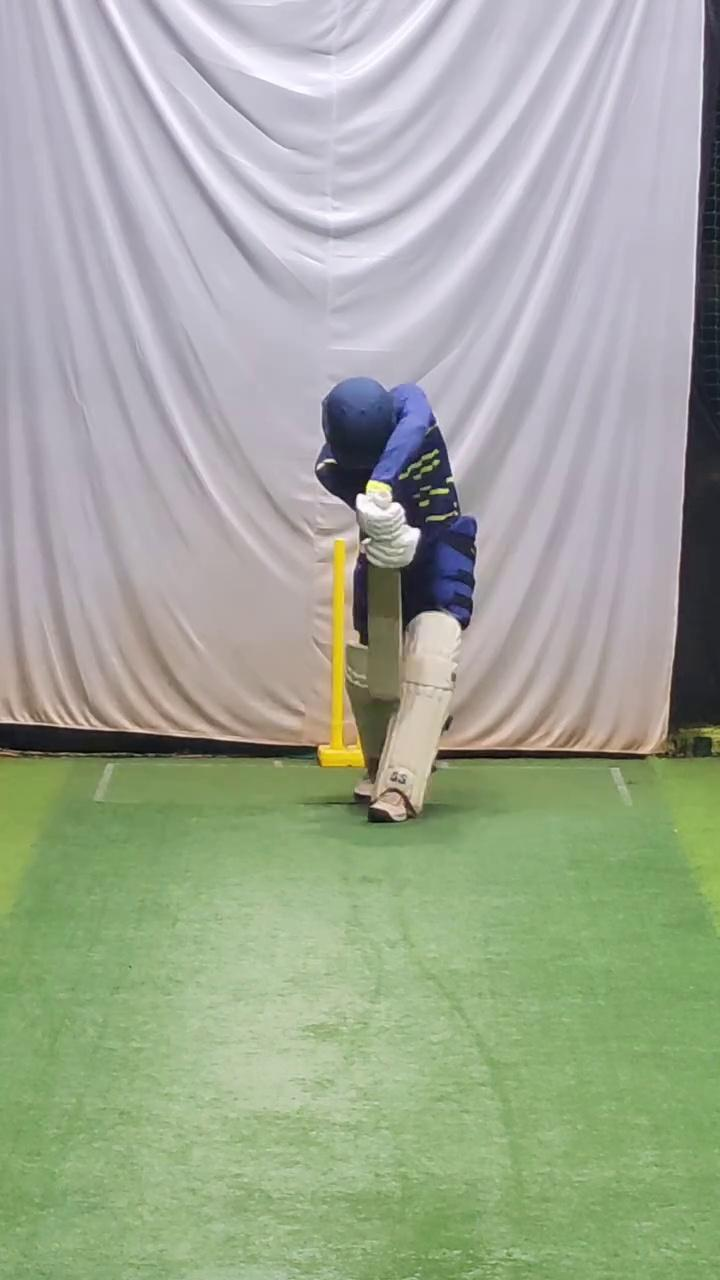bat: (367, 563, 401, 702)
